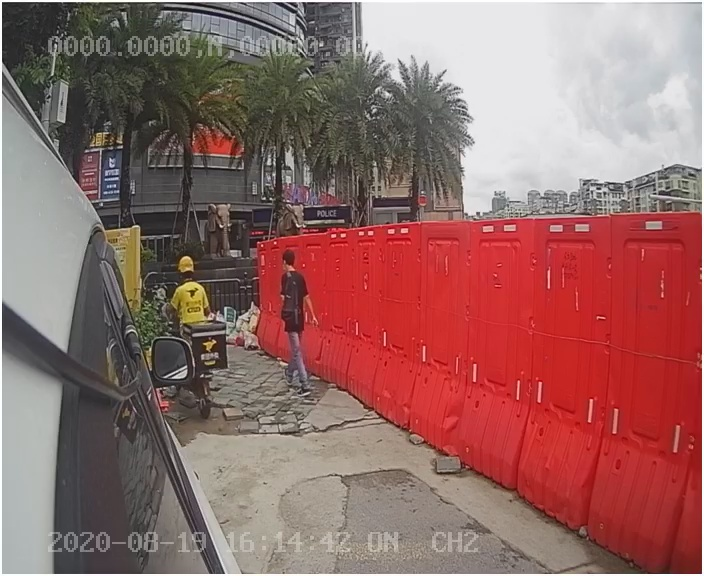person: (264, 242, 328, 402)
